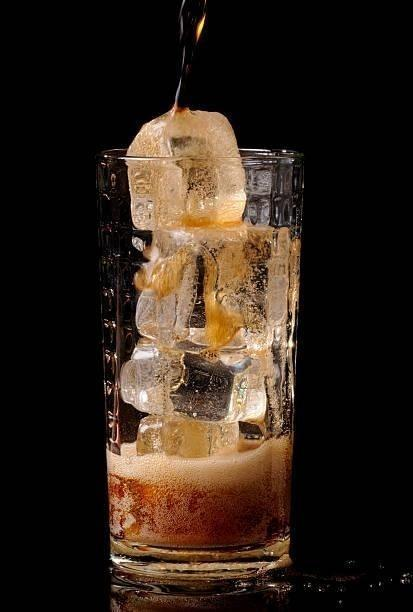glass-normal: (87, 142, 312, 587)
